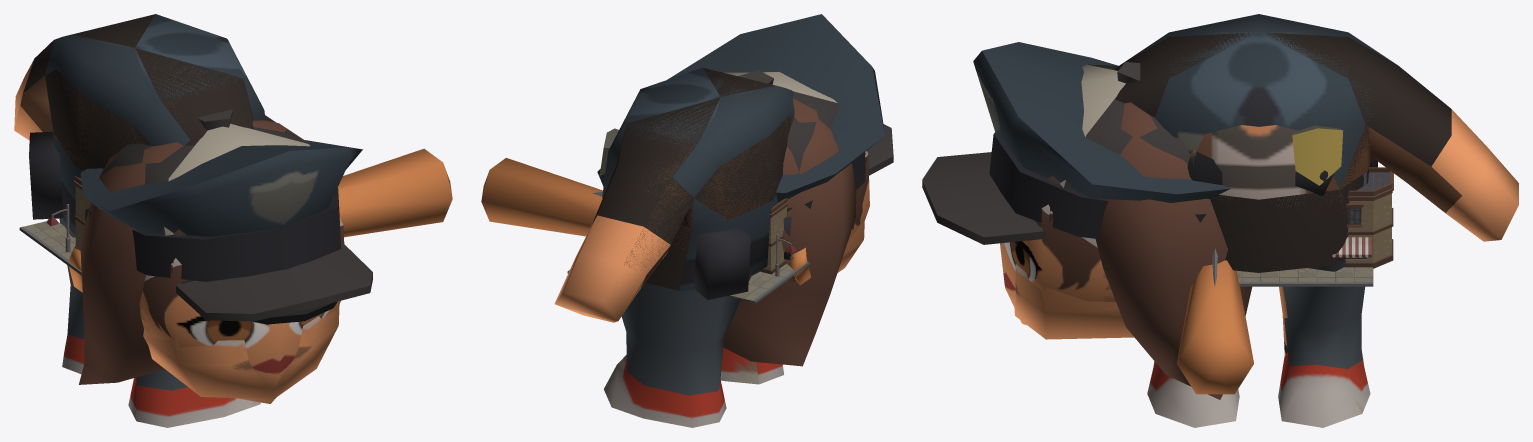
Rendered from toony.glb.
3 views of the same model, side by side, from view 1: azimuth 30°, elevation 25°; view 2: azimuth 150°, elevation 25°; view 3: azimuth 270°, elevation 25° (orthographic). The views are drawn at different scales.
Visible parts, largest first — view 1: head_46_police_A, f_head_07, Body_02_blackTshirt, Body_40_police_A, head_28_cap_A, w_baseballbat, head_00, Body_09_jacket, Sidewalk, Bocks; view 2: Body_02_blackTshirt, Body_40_police_A, f_head_07, head_46_police_A, w_baseballbat, Body_09_jacket, head_28_cap_A, Sidewalk, Bocks; view 3: Body_02_blackTshirt, f_head_07, head_46_police_A, Body_40_police_A, head_28_cap_A, Body_09_jacket, w_baseballbat, head_00, Bocks, Sidewalk, f_body_18_black_dress, Awning.
Boxes of the visible parts, x1,y1,x2,y2 form: head_46_police_A: (80, 140, 362, 398); f_head_07: (79, 120, 344, 403); Body_02_blackTshirt: (14, 14, 259, 427); Body_40_police_A: (29, 14, 264, 235); head_28_cap_A: (101, 109, 372, 398); w_baseballbat: (68, 148, 452, 292); head_00: (143, 197, 339, 398); Body_09_jacket: (15, 70, 260, 413); Sidewalk: (19, 204, 81, 275); Bocks: (73, 176, 90, 250); Body_02_blackTshirt: (554, 68, 793, 427); Body_40_police_A: (599, 68, 794, 300); f_head_07: (723, 98, 869, 366); head_46_police_A: (667, 14, 885, 272); w_baseballbat: (481, 158, 810, 285); Body_09_jacket: (555, 92, 793, 408); head_28_cap_A: (724, 70, 893, 237); Sidewalk: (567, 234, 809, 303); Bocks: (639, 198, 788, 290); Body_02_blackTshirt: (1114, 32, 1518, 427); f_head_07: (1000, 102, 1252, 399); head_46_police_A: (973, 42, 1230, 239); Body_40_police_A: (1121, 14, 1395, 189); head_28_cap_A: (922, 62, 1190, 339); Body_09_jacket: (1153, 125, 1518, 422); w_baseballbat: (1176, 260, 1253, 394); head_00: (1015, 175, 1134, 339); Bocks: (1344, 167, 1393, 268); Sidewalk: (1236, 267, 1373, 286); f_body_18_black_dress: (1187, 150, 1333, 355); Awning: (1332, 237, 1371, 257).
Bounding box in the file's own units: 50.37 × 40.49 × 63.57.
Materials: 8 (8 with a texture image).
